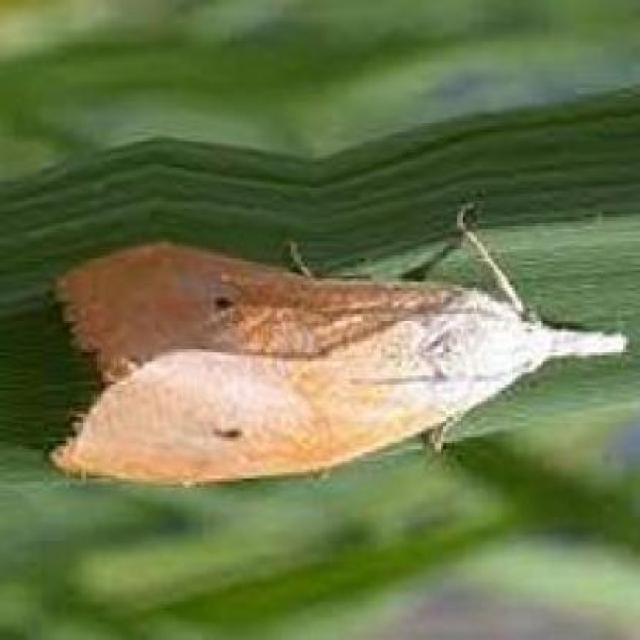stem-borer: (49, 202, 632, 483)
